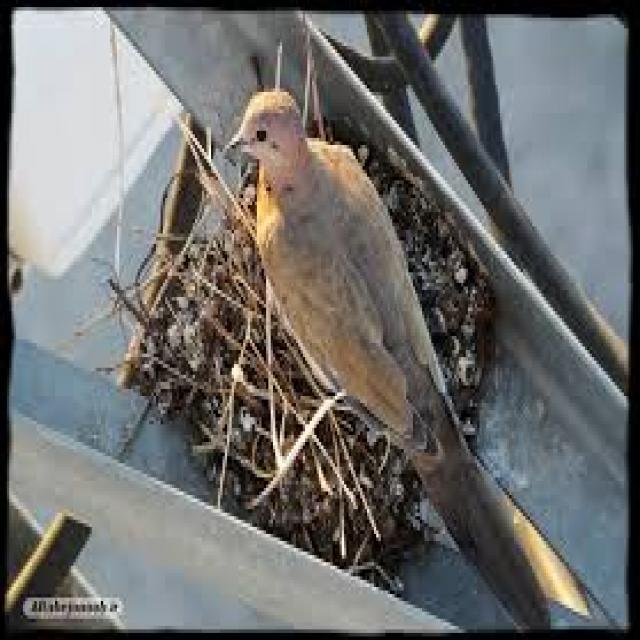bird: (217, 80, 616, 630)
